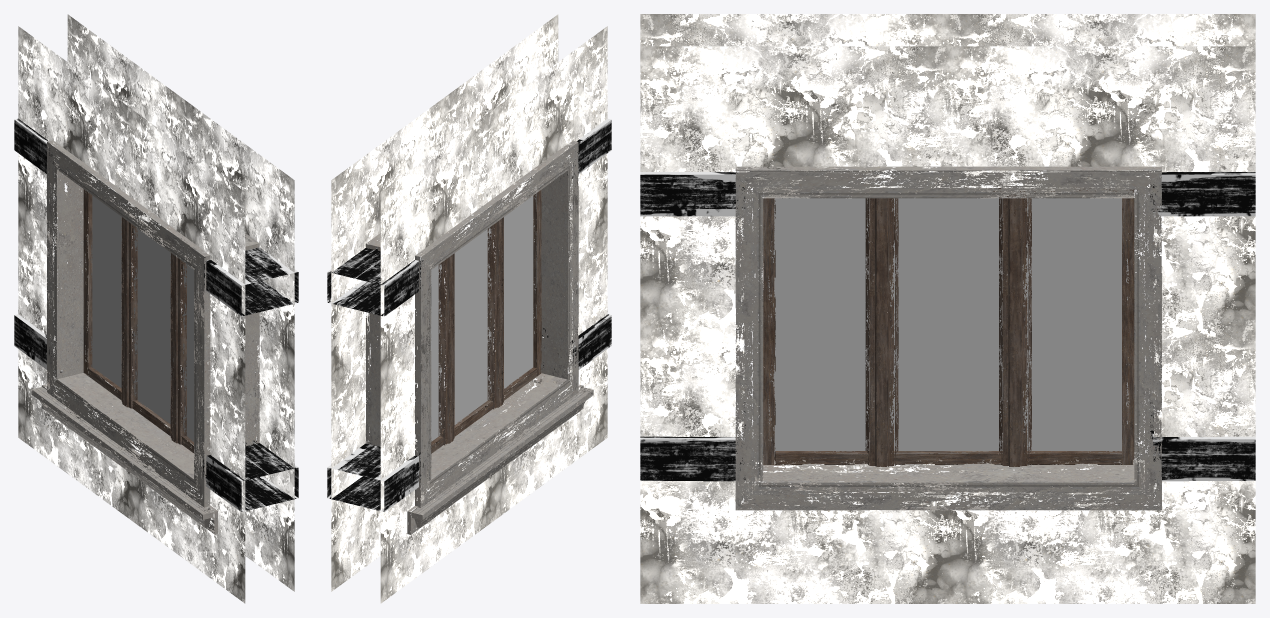
File: SM_wall_A_window_4x4_06_03.fbx
3 views of the same model, side by side, from view 1: azimuth 30°, elevation 25°; view 2: azimuth 150°, elevation 25°; view 3: azimuth 270°, elevation 25° (orthographic). The views are drawn at different scales.
Visible parts, largest first — view 1: SM_wall_A_window_4x4_06_03_LOD0; view 2: SM_wall_A_window_4x4_06_03_LOD0; view 3: SM_wall_A_window_4x4_06_03_LOD0.
Boxes of the visible parts, x1,y1,x2,y2 form: SM_wall_A_window_4x4_06_03_LOD0: (14, 14, 298, 603); SM_wall_A_window_4x4_06_03_LOD0: (327, 14, 611, 603); SM_wall_A_window_4x4_06_03_LOD0: (640, 14, 1255, 603).
Bounding box in the file's own units: 70.71 × 400 × 400.
Materials: 6 (5 with a texture image).
